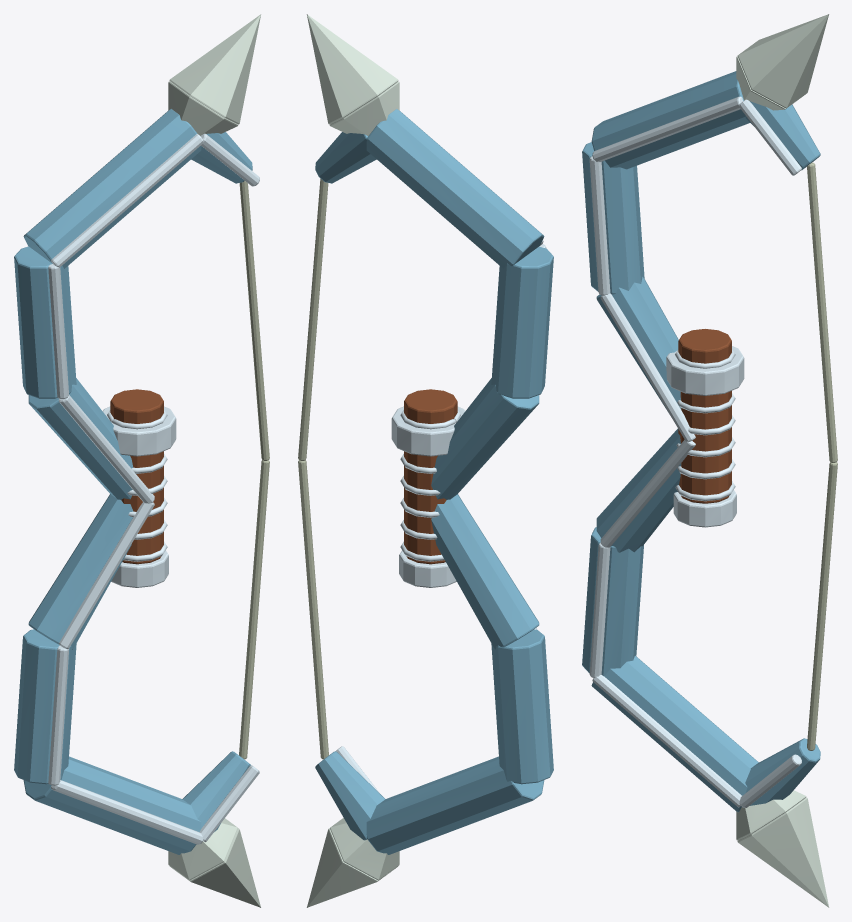
File: item_021.glb
3 renders of one model, left to right at view 1: azimuth 30°, elevation 25°; view 2: azimuth 150°, elevation 25°; view 3: azimuth 330°, elevation 25°, orthographic.
Visible parts, largest first — view 1: Item_021_frost_compound; view 2: Item_021_frost_compound; view 3: Item_021_frost_compound.
Part boxes in pixels (x1,y1,x2,y2): Item_021_frost_compound: [14, 14, 269, 907]; Item_021_frost_compound: [298, 14, 553, 907]; Item_021_frost_compound: [582, 14, 837, 907].
Size of the model in its own units: 0.5483 by 1.86 by 0.1574.
